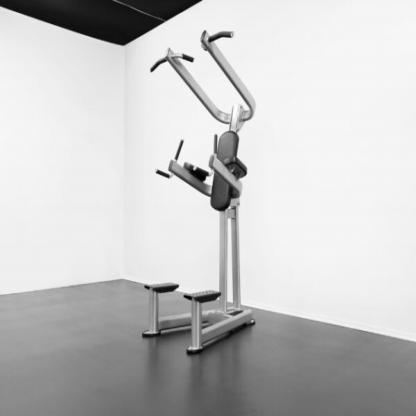chinning dipping: (142, 30, 258, 356)
